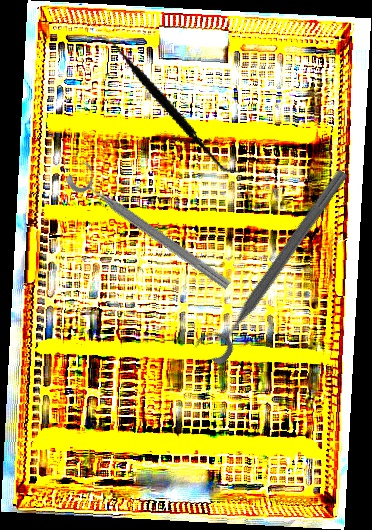Fixation Ring: (191, 158, 354, 367), (63, 156, 241, 295)
Spatula Surgical: (71, 32, 266, 176)
